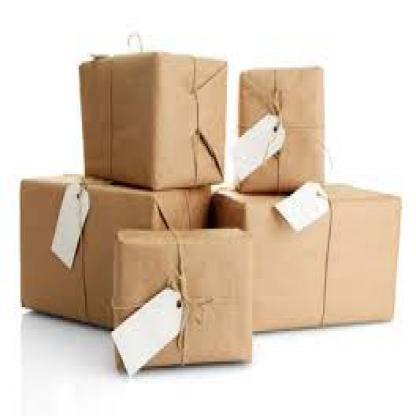paquete: (200, 144, 411, 335), (9, 159, 213, 338), (68, 32, 230, 192), (107, 218, 259, 379), (224, 44, 336, 200)
